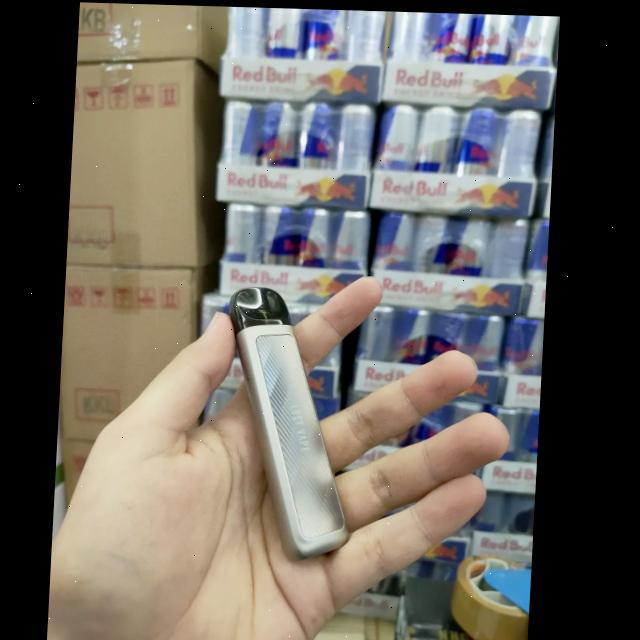vape: (219, 285, 369, 566)
